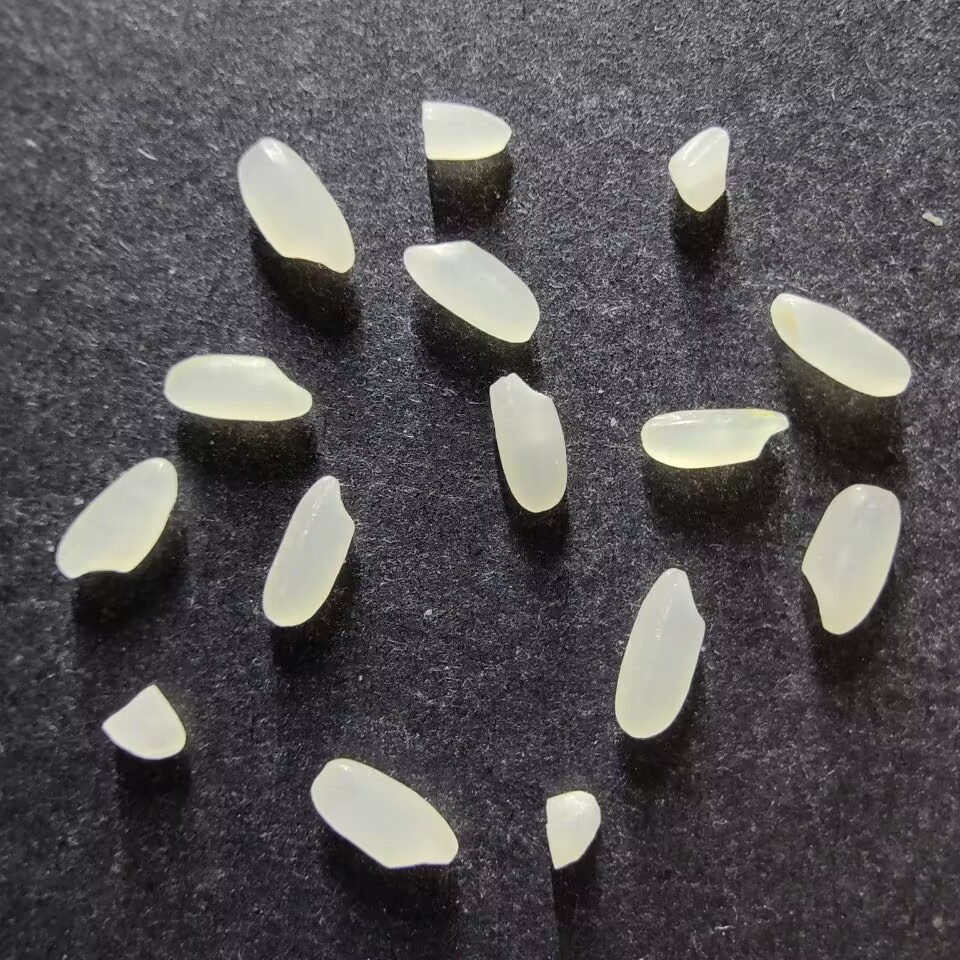broken: (99, 680, 189, 762), (419, 100, 512, 162), (666, 125, 732, 212), (541, 791, 603, 870)
rice: (309, 756, 459, 870), (235, 135, 357, 274), (612, 565, 707, 740), (799, 482, 903, 636), (53, 456, 180, 580), (769, 291, 912, 396), (260, 473, 356, 628), (401, 239, 542, 344), (487, 371, 570, 513), (162, 353, 315, 422), (640, 406, 790, 469)
